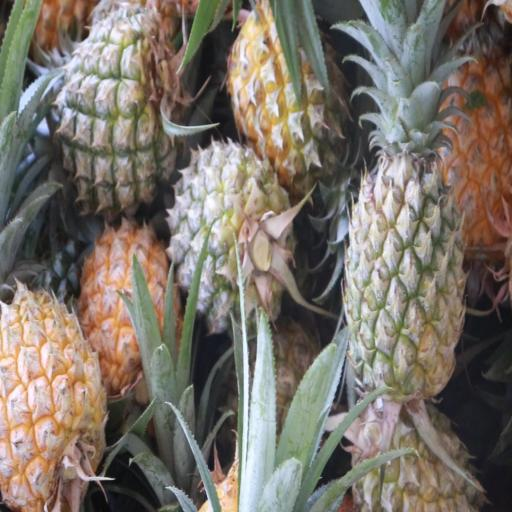------------------------------: (50, 15, 176, 205), (170, 145, 288, 330), (224, 0, 339, 189)
Pineapple - v8 v1: (0, 296, 105, 512), (81, 224, 183, 402), (432, 44, 512, 244)
